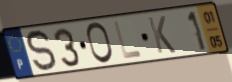1: (185, 9, 208, 52)
3: (53, 26, 82, 69)
K: (145, 14, 178, 55)
L: (112, 20, 144, 61)
O: (85, 21, 116, 66)
S: (25, 28, 58, 74)
